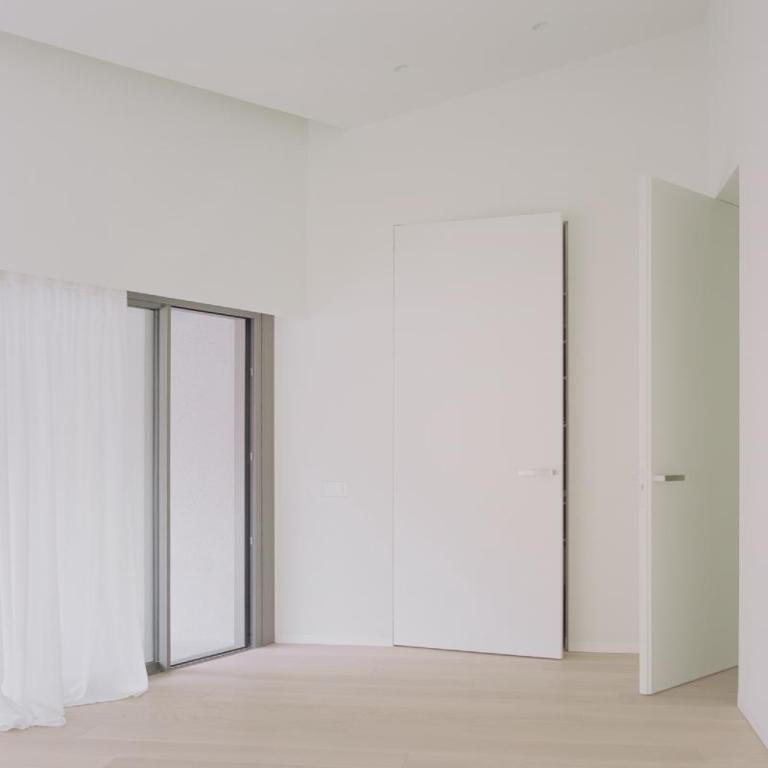white-walls: (31, 15, 755, 603)
